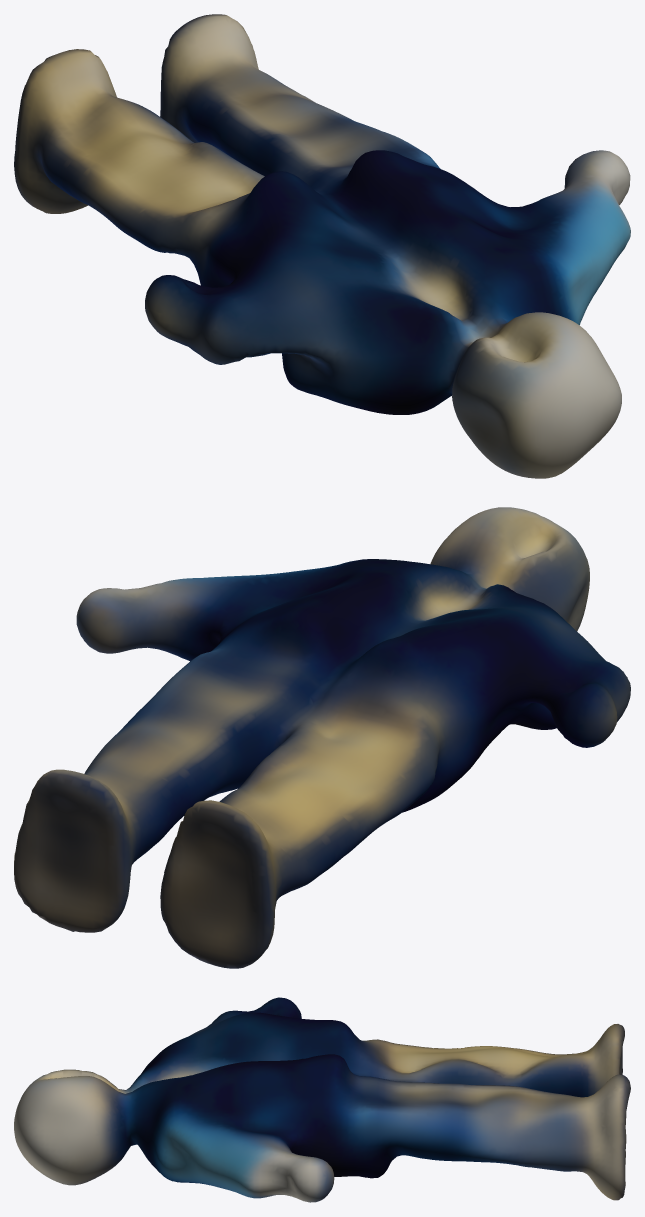
The model's file is grandfather.glb.
3 renders of one model, top to bottom at view 1: azimuth 30°, elevation 25°; view 2: azimuth 150°, elevation 25°; view 3: azimuth 270°, elevation 25°, orthographic. The views are drawn at different scales.
Size of the model in its own units: 0.6755 by 0.2349 by 0.9994.
